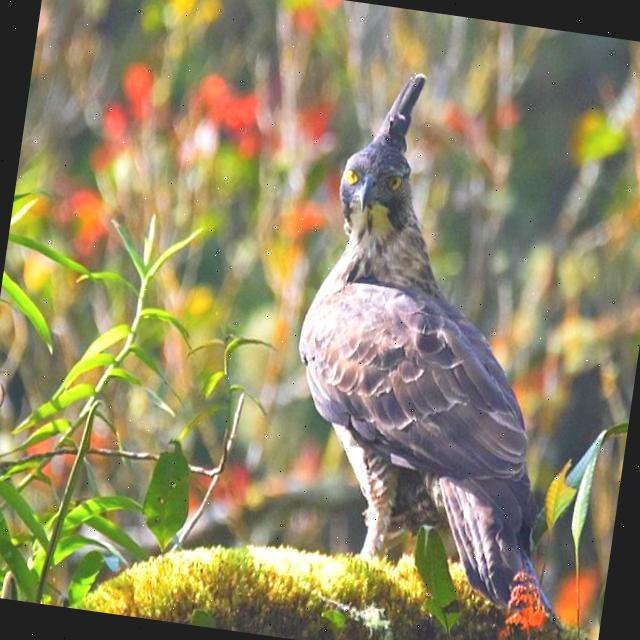Elang Jawa: (243, 50, 627, 640)
